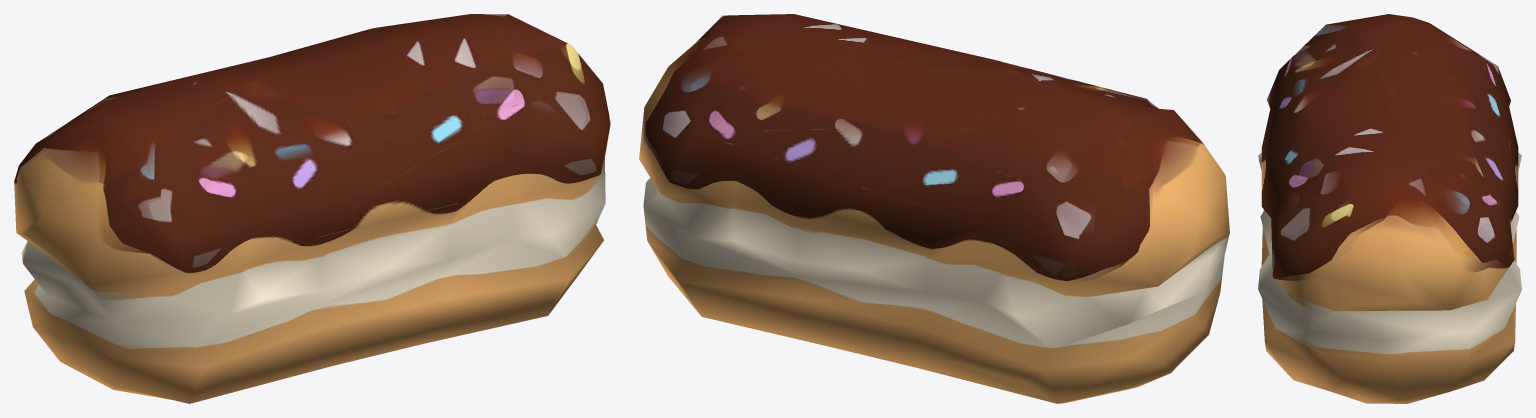
Rendered from source.fbx.
3 views of the same model, side by side, from view 1: azimuth 30°, elevation 25°; view 2: azimuth 150°, elevation 25°; view 3: azimuth 270°, elevation 25° (orthographic). The views are drawn at different scales.
Parts seen in each view (by area): view 1: Mesh_0; view 2: Mesh_0; view 3: Mesh_0.
Part boxes in pixels (<box>): Mesh_0: <box>14,14,610,403</box>; Mesh_0: <box>639,14,1229,403</box>; Mesh_0: <box>1258,14,1521,403</box>.
Size of the model in its own units: 38.08 by 18 by 18.82.
1 material, 1 textured.
